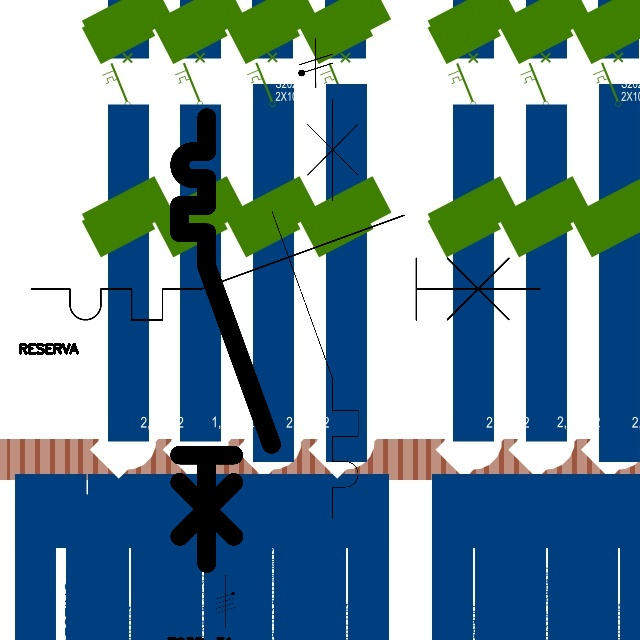interruptor_termomagnetico: (18, 202, 553, 333), (168, 106, 282, 574), (261, 88, 369, 530)
